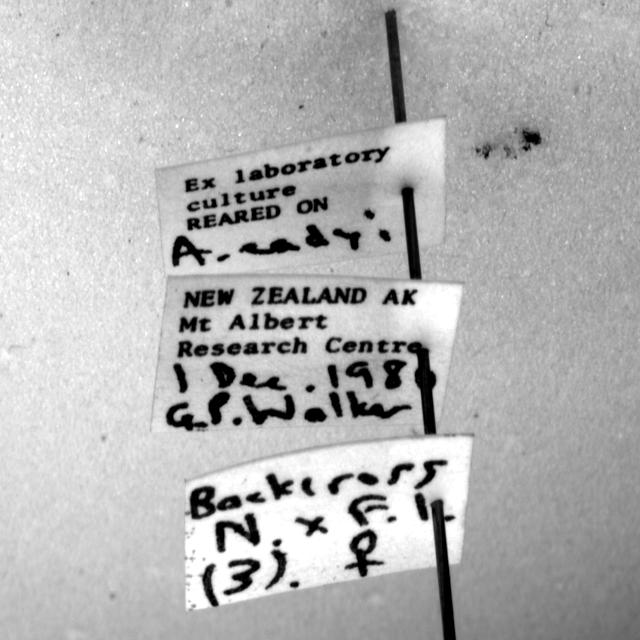hand_label: (185, 435, 472, 609)
mixed_label: (151, 276, 462, 431), (156, 116, 446, 276)
